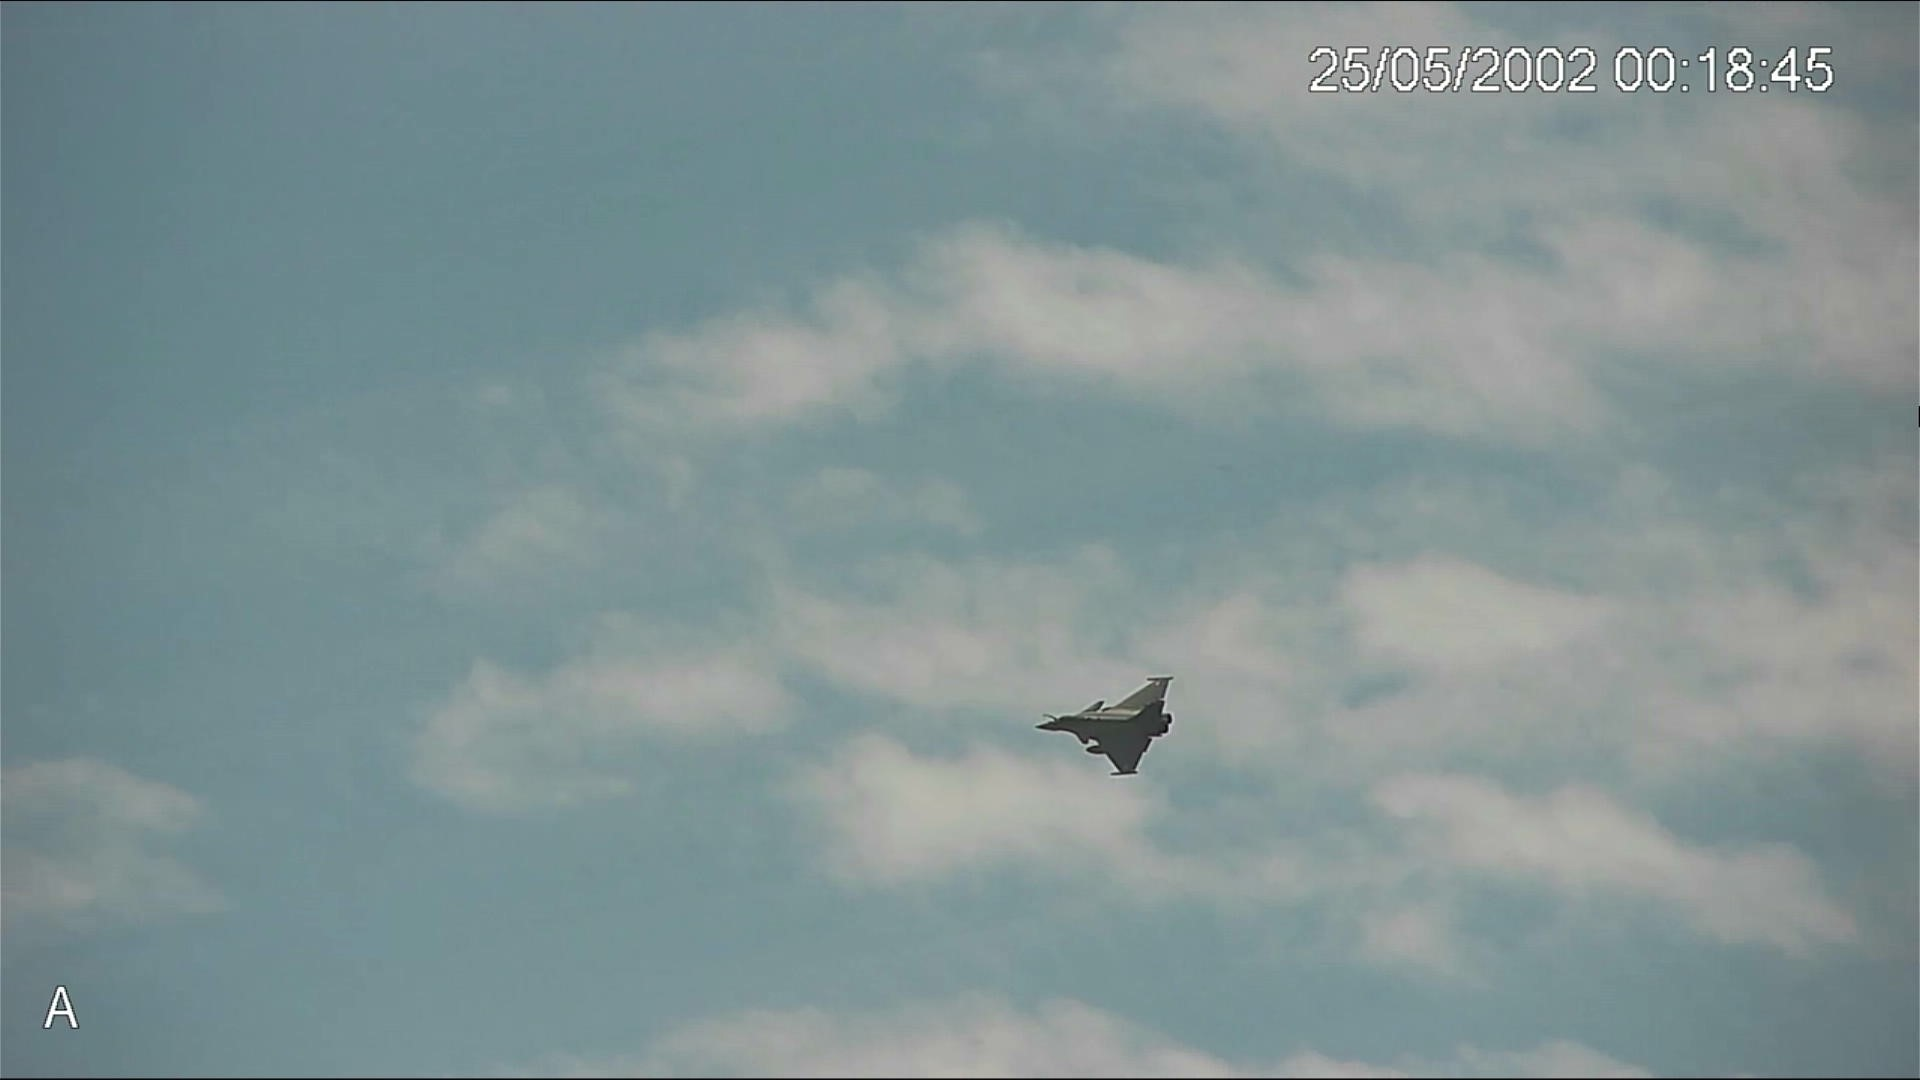SU_30: (1026, 674, 1183, 774)
